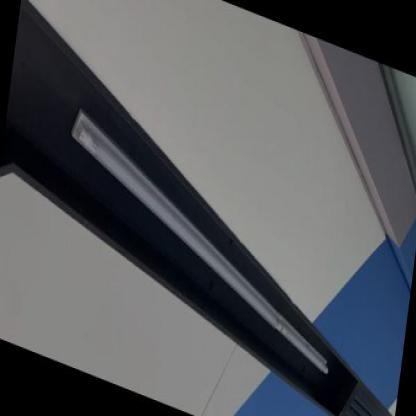light_off: (46, 73, 358, 391)
